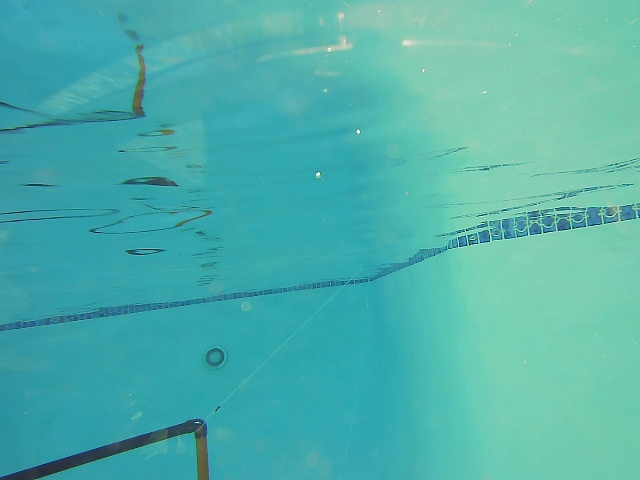Gate: (5, 413, 225, 480)
